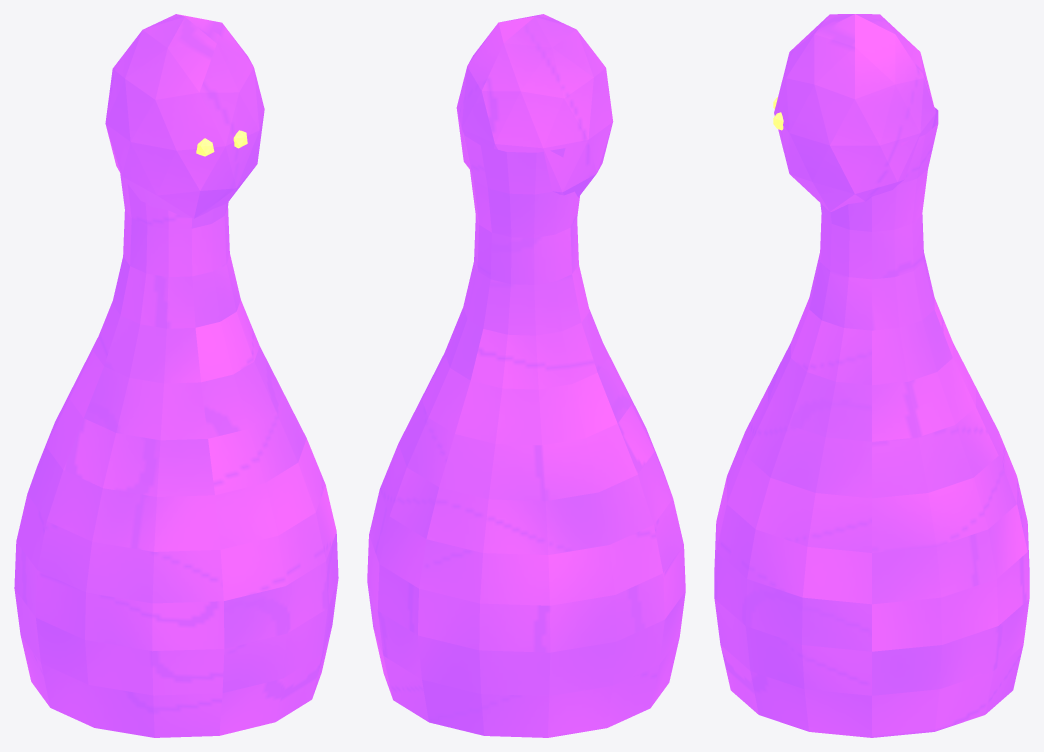
The model's file is aura_shade.glb.
3 renders of one model, left to right at view 1: azimuth 30°, elevation 25°; view 2: azimuth 150°, elevation 25°; view 3: azimuth 270°, elevation 25°, orthographic.
Parts seen in each view (by area): view 1: AuraShade_Body; view 2: AuraShade_Body; view 3: AuraShade_Body.
Boxes of the visible parts, left/top/right/bottom form: AuraShade_Body: left=14, top=14, right=338, bottom=737; AuraShade_Body: left=367, top=14, right=685, bottom=737; AuraShade_Body: left=714, top=14, right=1029, bottom=737.
Bounding box in the file's own units: 0.7586 × 1.72 × 0.7395.
Materials: 2 (2 with a texture image).
